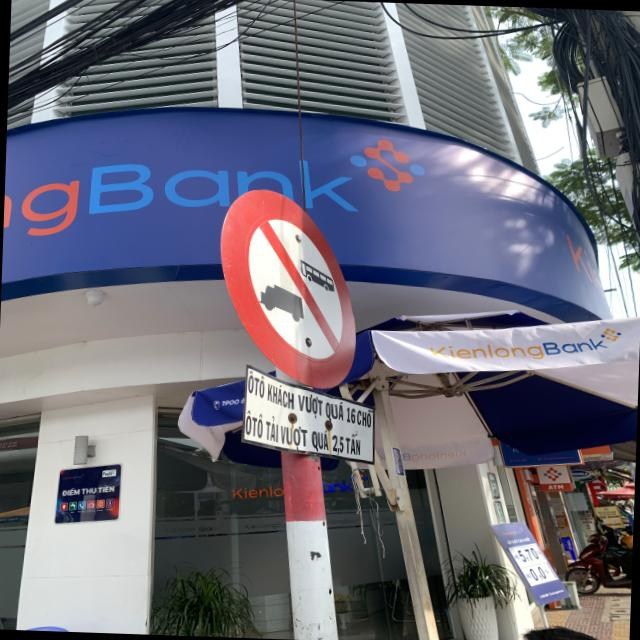Cam_XeTai_XeKhach: (218, 185, 362, 389)
